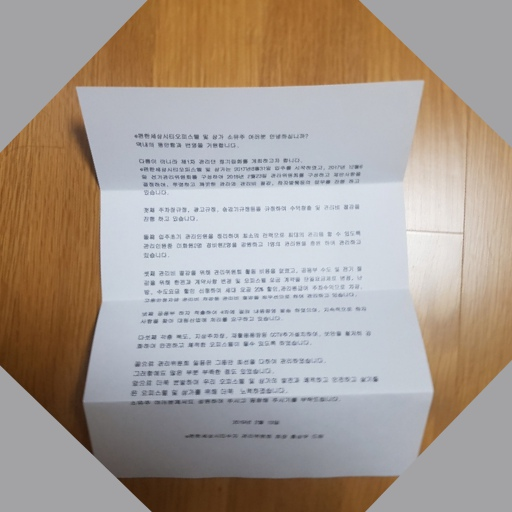Paper_3: (72, 69, 458, 481)
